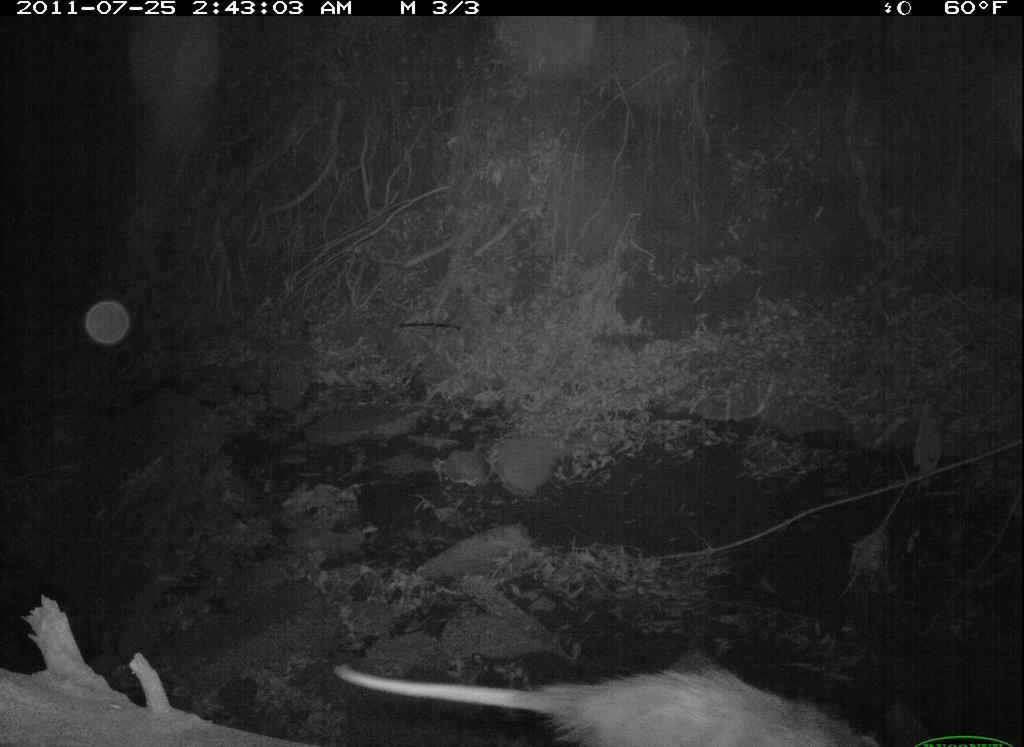opossum: (323, 639, 903, 747)
